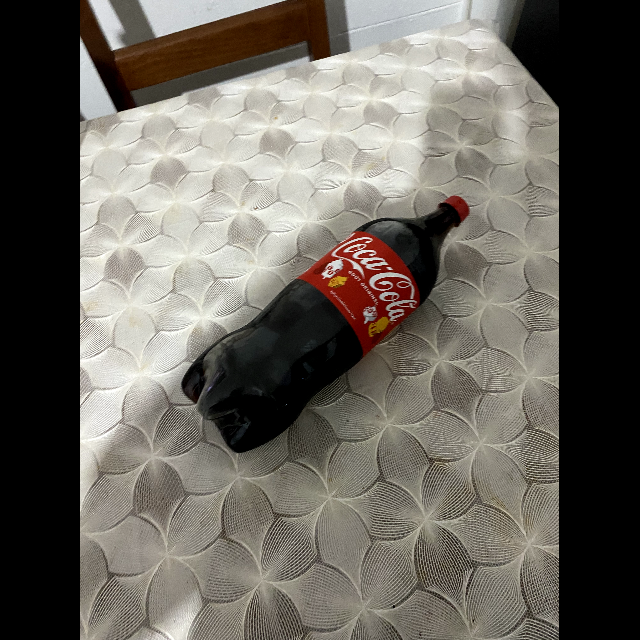coca-cola GB: (184, 192, 465, 453)
